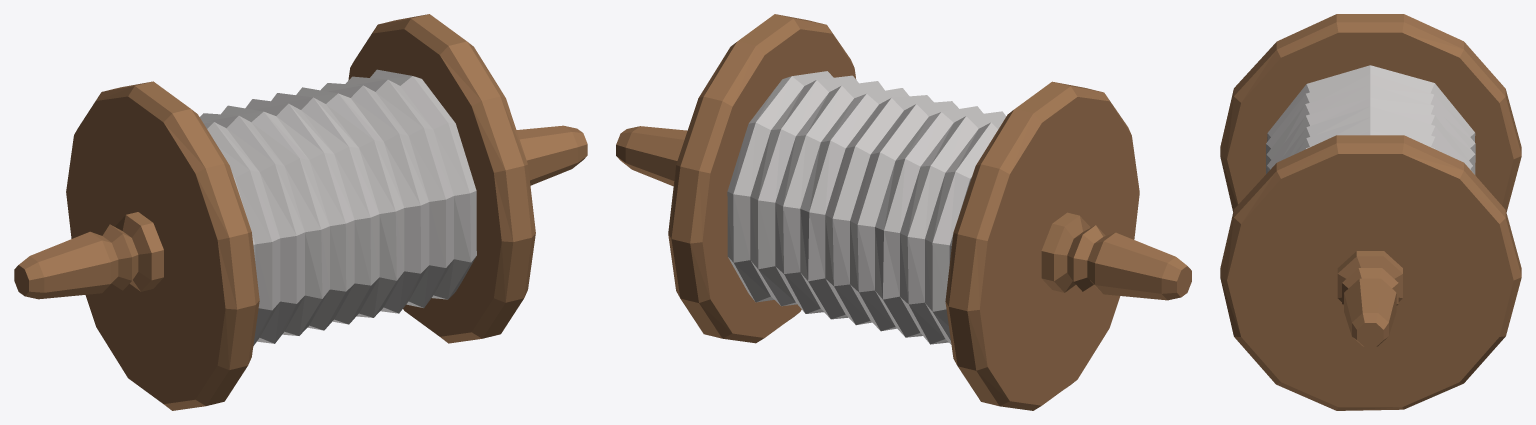
File: kite-spool-with-hilo-fe7e05.glb
The picture shows the model from 3 angles, left to right: view 1: azimuth 30°, elevation 25°; view 2: azimuth 150°, elevation 25°; view 3: azimuth 270°, elevation 25°; orthographic projection. The views are drawn at different scales.
Visible parts, largest first — view 1: reel-mesh; view 2: reel-mesh; view 3: reel-mesh.
Boxes of the visible parts, x1,y1,x2,y2 form: reel-mesh: (14,14,587,410); reel-mesh: (616,14,1191,410); reel-mesh: (1220,14,1521,410).
Bounding box in the file's own units: 0.18 × 0.0916 × 0.0936.
